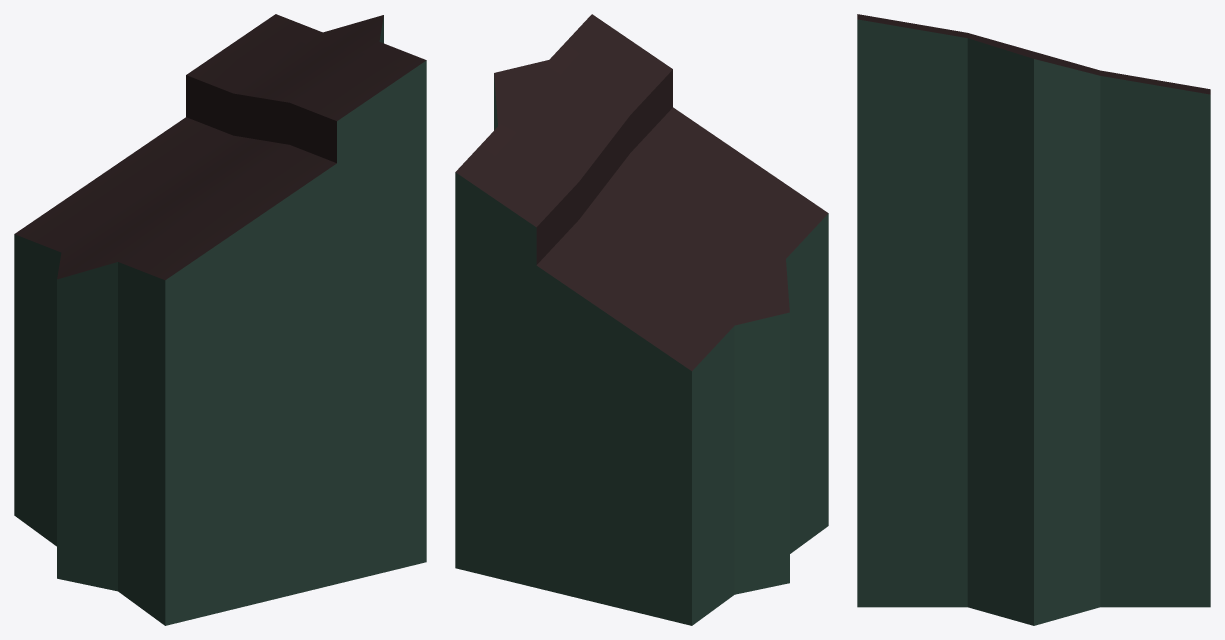
Rendered from SM_PillarMidBroke_01.fbx.
3 renders of one model, left to right at view 1: azimuth 30°, elevation 25°; view 2: azimuth 150°, elevation 25°; view 3: azimuth 270°, elevation 25°, orthographic. The views are drawn at different scales.
Parts seen in each view (by area): view 1: SM_PillarMidBroke_01; view 2: SM_PillarMidBroke_01; view 3: SM_PillarMidBroke_01.
Boxes of the visible parts, x1=… form: SM_PillarMidBroke_01: x1=14, y1=14, x2=426, y2=625; SM_PillarMidBroke_01: x1=455, y1=14, x2=828, y2=625; SM_PillarMidBroke_01: x1=857, y1=14, x2=1210, y2=625.
Size of the model in its own units: 250 by 367 by 200.
1 material, 1 textured.
